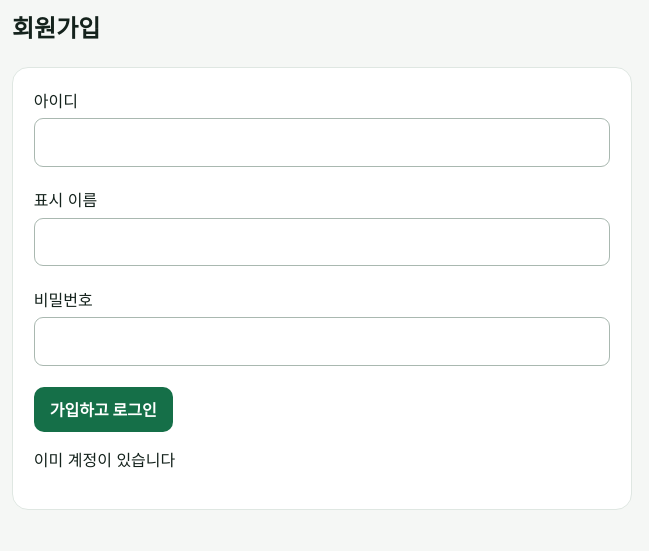
Scenario: 폼 검증과 오류 표시 › 회원가입 폼이 약한 비밀번호를 거부한다
Type "valid_user" into the field labelled "아이디" at [322, 142], box x1=34 y1=118 x2=610 y2=167
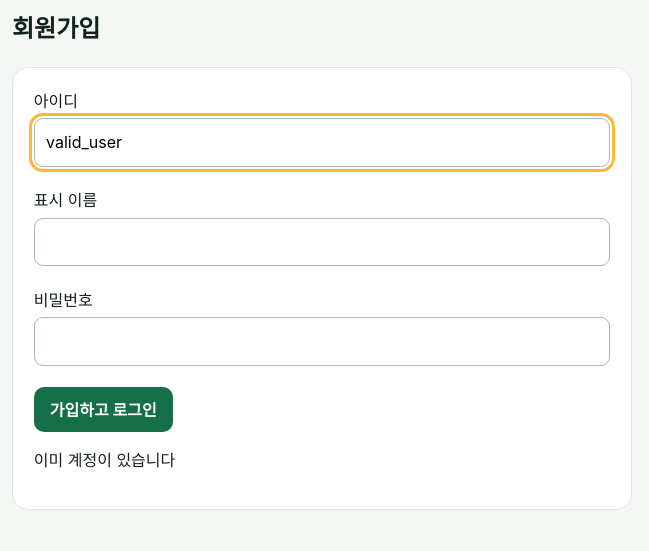
Type "테스터" into the field labelled "표시 이름" at [322, 242], box x1=34 y1=218 x2=610 y2=266
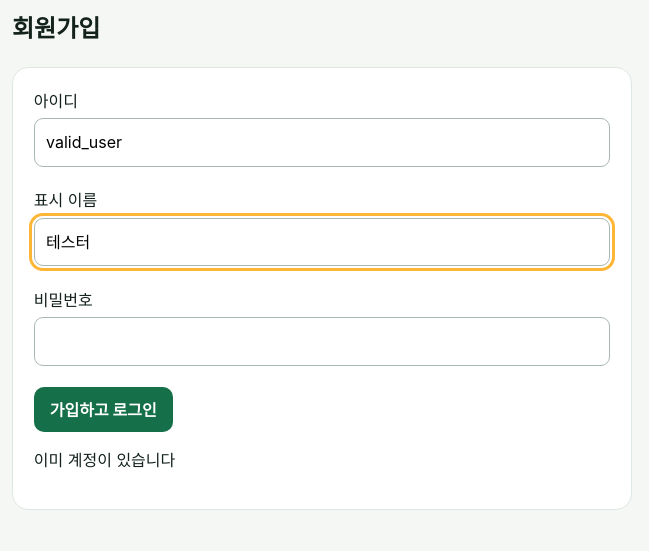
Type "short" into the password field labelled "비밀번호" at [322, 342], box x1=34 y1=317 x2=610 y2=366
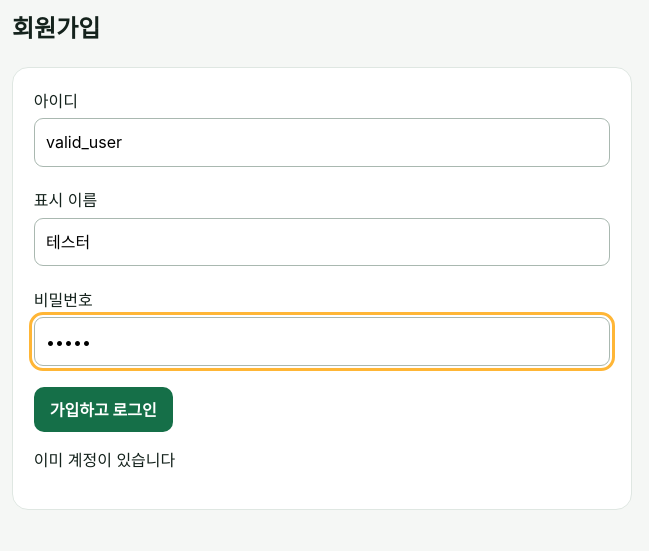
Click the button "가입하고 로그인" at [103, 410], box x1=34 y1=387 x2=173 y2=432
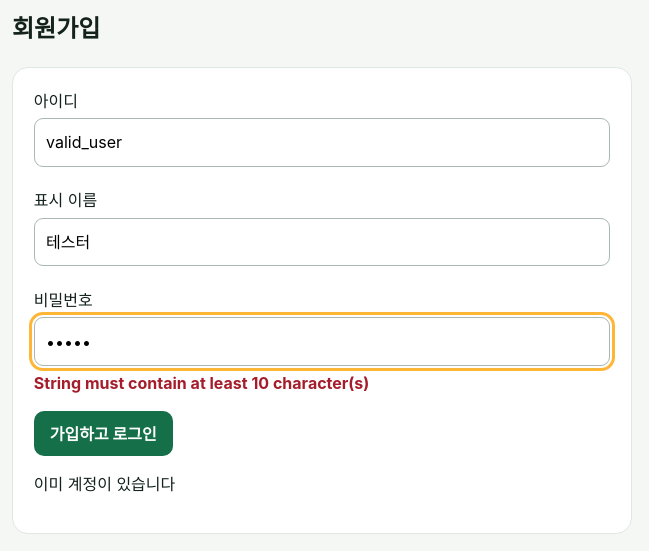
Expected: the text "10" is shown, x1=34 y1=373 x2=369 y2=393
